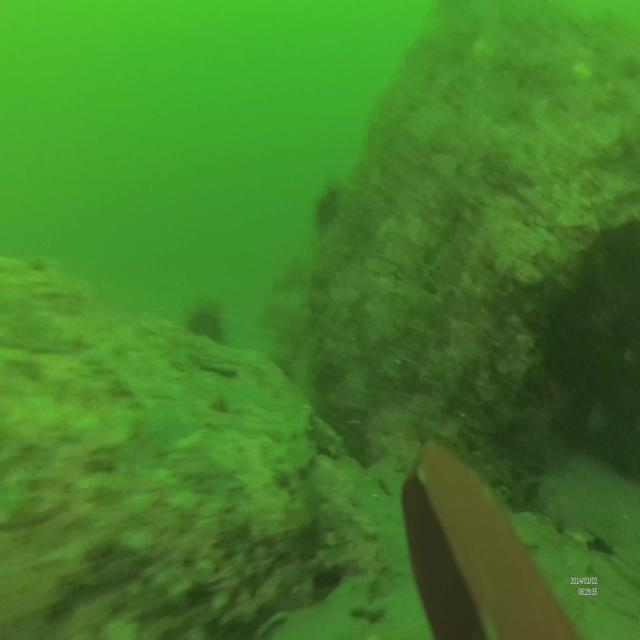echinus: (178, 294, 228, 359), (312, 176, 347, 226)
